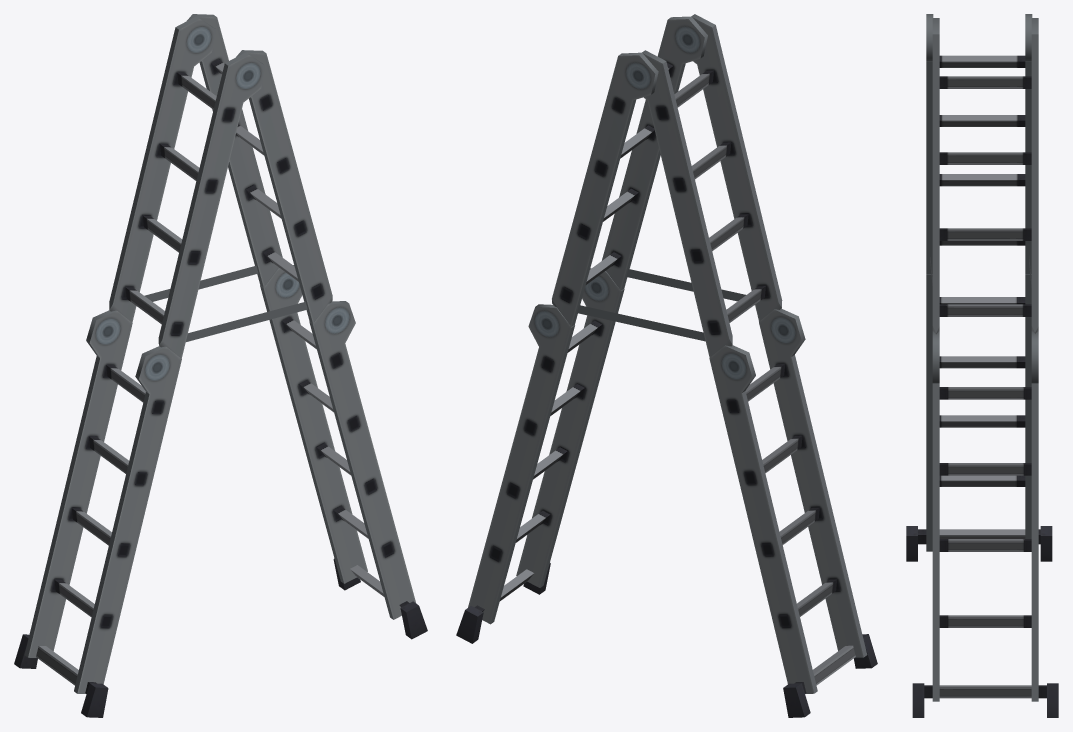
The model's file is Ladder2_LOD1.fbx.
3 renders of one model, left to right at view 1: azimuth 30°, elevation 25°; view 2: azimuth 150°, elevation 25°; view 3: azimuth 270°, elevation 25°, orthographic.
Parts seen in each view (by area): view 1: polySurface981; view 2: polySurface981; view 3: polySurface981.
Part boxes in pixels (x1,y1,x2,y2): polySurface981: (14,14,427,717); polySurface981: (456,14,877,717); polySurface981: (906,14,1058,717).
Size of the model in its own units: 166 by 284 by 63.49.
